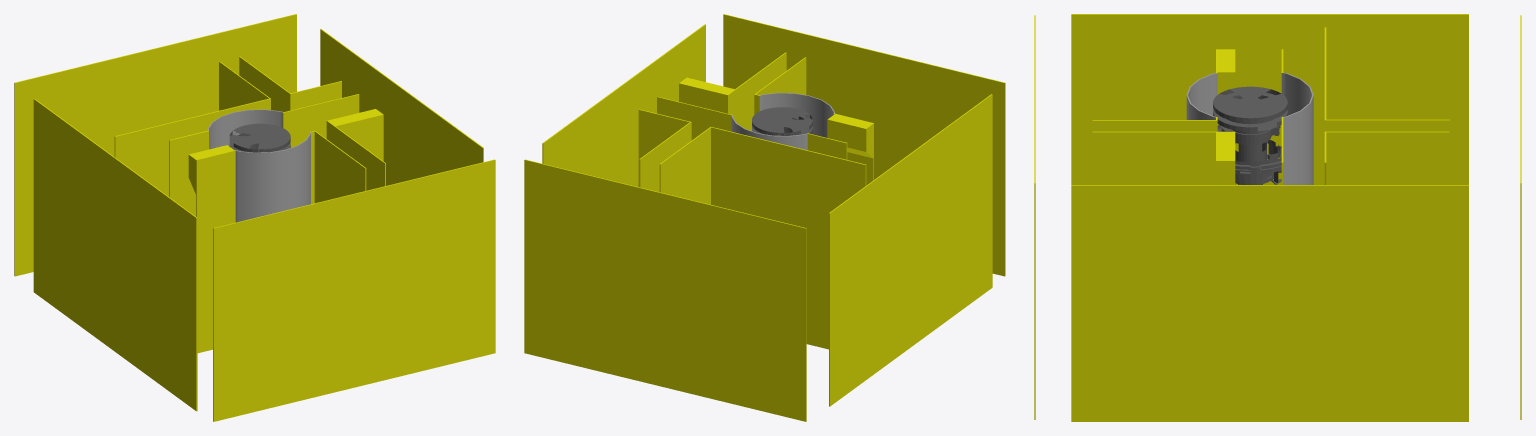
The model's file is Level_Walls.fbx.
The picture shows the model from 3 angles, left to right: view 1: azimuth 30°, elevation 25°; view 2: azimuth 150°, elevation 25°; view 3: azimuth 270°, elevation 25°; orthographic projection. The views are drawn at different scales.
Parts seen in each view (by area): view 1: polySurface109, polySurface108, polySurface110, polySurface105, polySurface106, polySurface107, polySurface86, Tutorial_Wall, Background_Tower.001; view 2: polySurface110, polySurface108, polySurface109, polySurface107, polySurface106, polySurface105, polySurface86, Background_Tower.001, Tutorial_Wall; view 3: polySurface106, polySurface108, polySurface107, polySurface86, polySurface105, Background_Tower.001, polySurface109, polySurface110, Background_Tower.006, Background_Tower.002, Background_Tower.005.
Part boxes in pixels (bbox=[...]): polySurface109: bbox=[213, 159, 495, 421]; polySurface108: bbox=[33, 99, 197, 411]; polySurface110: bbox=[14, 14, 296, 276]; polySurface105: bbox=[169, 109, 366, 353]; polySurface106: bbox=[320, 29, 483, 185]; polySurface107: bbox=[114, 56, 341, 196]; polySurface86: bbox=[326, 109, 385, 190]; Tutorial_Wall: bbox=[282, 94, 359, 147]; Background_Tower.001: bbox=[229, 123, 290, 152]; polySurface110: bbox=[524, 159, 806, 421]; polySurface108: bbox=[829, 94, 992, 406]; polySurface109: bbox=[723, 14, 1005, 276]; polySurface107: bbox=[638, 109, 866, 349]; polySurface106: bbox=[542, 24, 705, 186]; polySurface105: bbox=[731, 57, 873, 185]; polySurface86: bbox=[679, 52, 786, 130]; Background_Tower.001: bbox=[752, 107, 812, 135]; Tutorial_Wall: bbox=[657, 96, 733, 140]; polySurface106: bbox=[1071, 185, 1468, 421]; polySurface108: bbox=[1071, 14, 1468, 184]; polySurface107: bbox=[1324, 27, 1449, 184]; polySurface86: bbox=[1092, 131, 1235, 184]; polySurface105: bbox=[1092, 49, 1313, 184]; Background_Tower.001: bbox=[1213, 86, 1287, 184]; polySurface109: bbox=[1034, 15, 1035, 419]; polySurface110: bbox=[1520, 15, 1521, 419]; Background_Tower.006: bbox=[1235, 140, 1281, 184]; Background_Tower.002: bbox=[1217, 125, 1281, 183]; Background_Tower.005: bbox=[1221, 126, 1279, 145].
Size of the model in its own units: 4891520 by 3173569 by 5872312.
